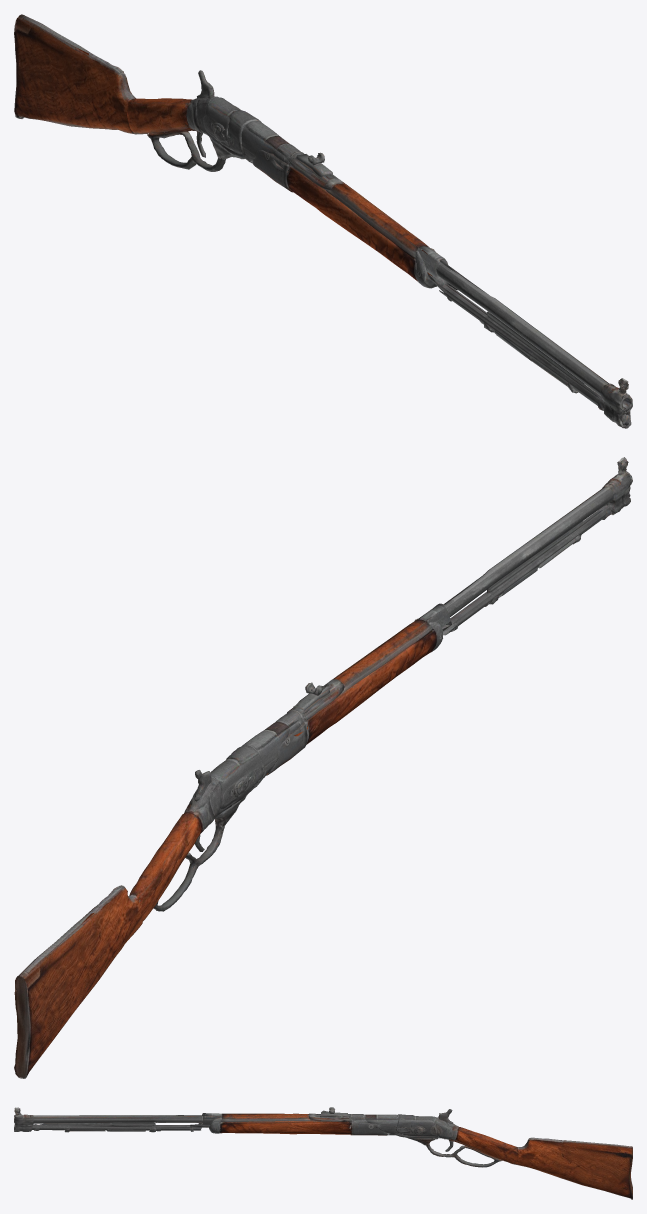
Rendered from winchester_1886.glb.
3 renders of one model, top to bottom at view 1: azimuth 30°, elevation 25°; view 2: azimuth 150°, elevation 25°; view 3: azimuth 270°, elevation 25°, orthographic. The views are drawn at different scales.
Parts seen in each view (by area): view 1: 0; view 2: 0; view 3: 0.
Boxes of the visible parts, bbox=[...] form: 0: bbox=[14, 14, 632, 428]; 0: bbox=[14, 457, 632, 1078]; 0: bbox=[14, 1107, 632, 1199].
Bounding box in the file's own units: 0.0316 × 0.1965 × 1.2.
Materials: 1 (1 with a texture image).
